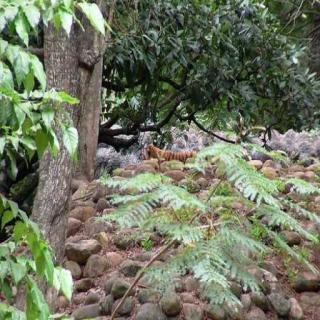Tiger: (146, 139, 197, 166)
